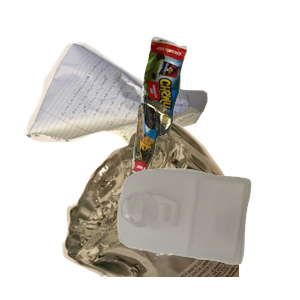glass: (60, 120, 300, 300)
paper: (23, 40, 223, 180)
plastic: (115, 166, 300, 300)
trash: (130, 34, 300, 203)
